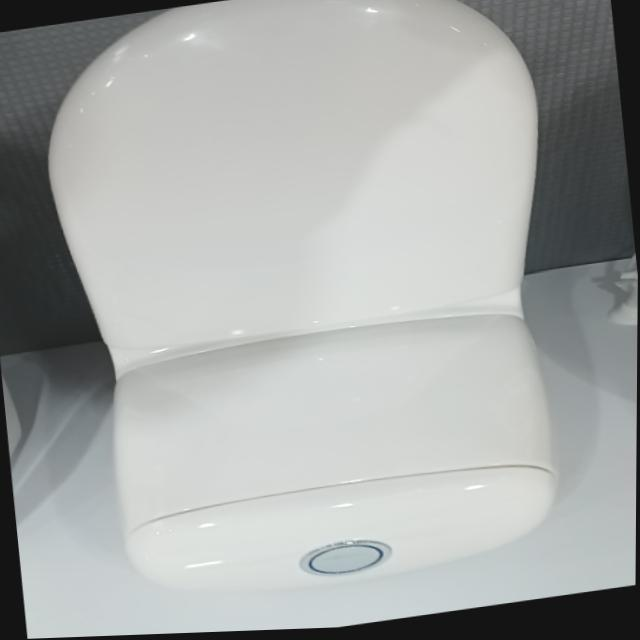toilet: (29, 0, 585, 622)
